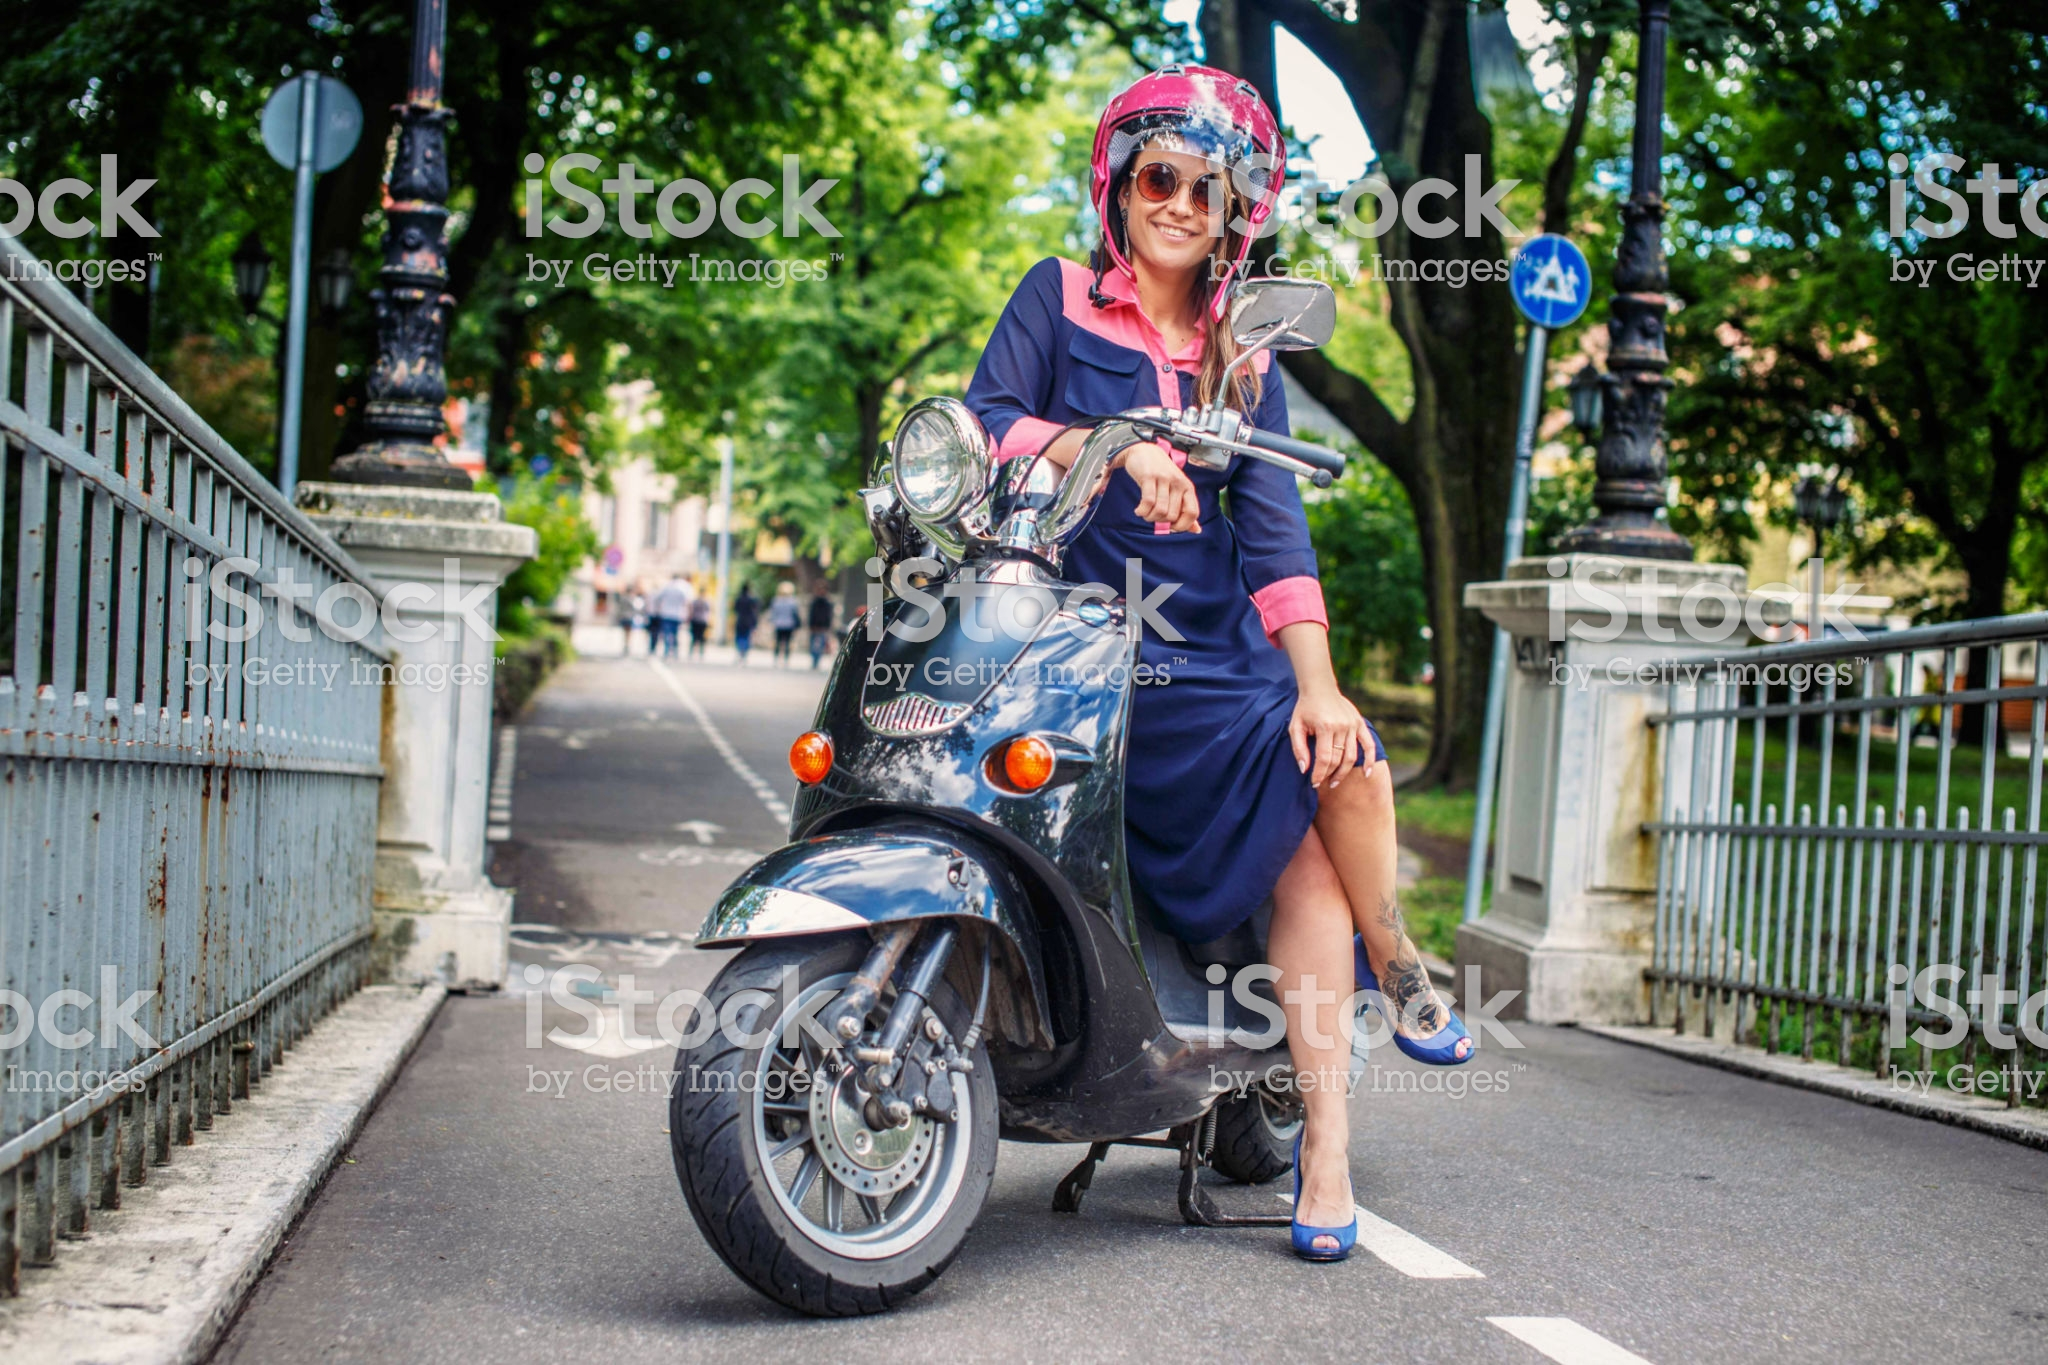helmet: (1089, 50, 1294, 267)
